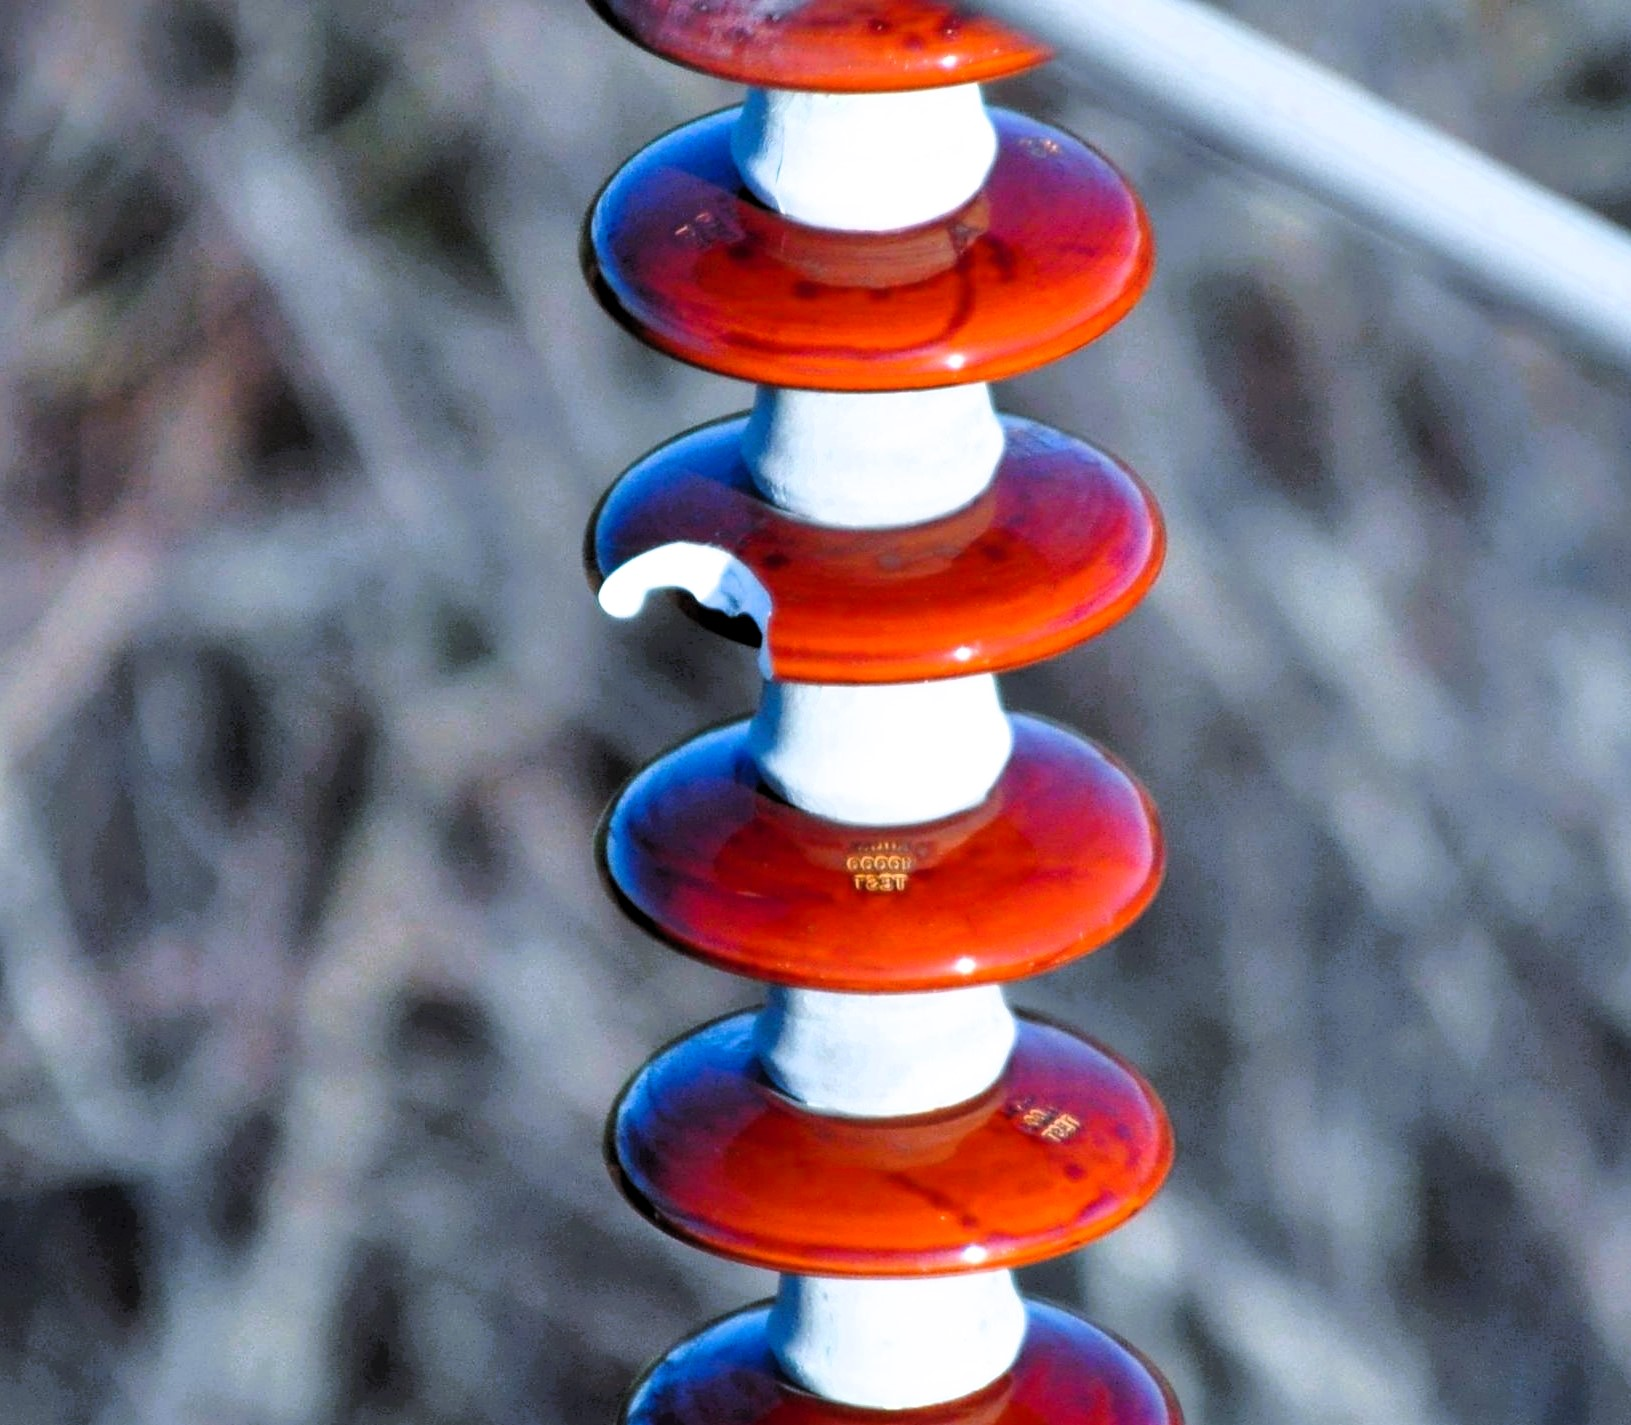insulator breakage: (558, 393, 1186, 691)
